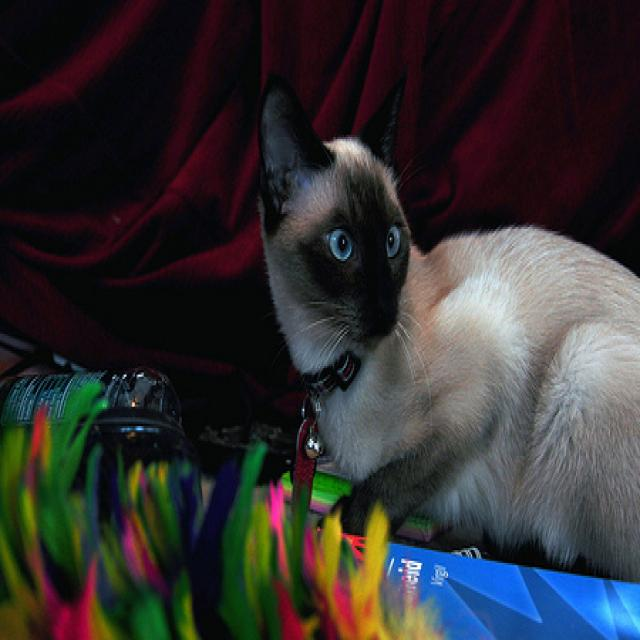Siamese: (250, 56, 640, 593)
